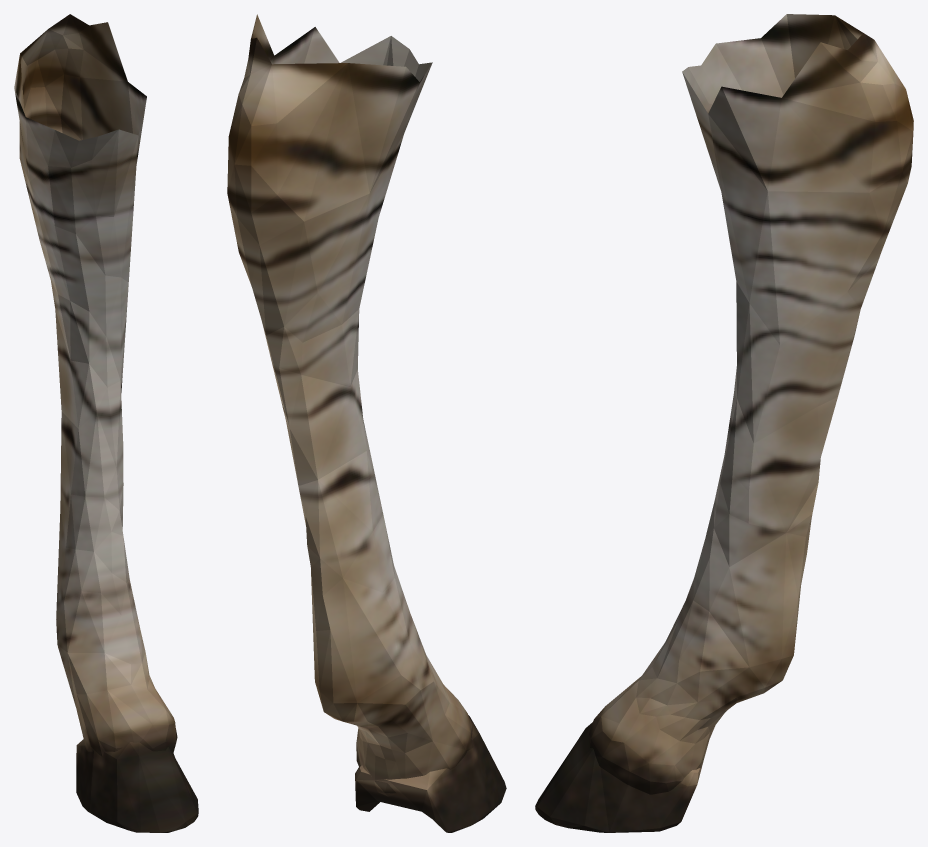
File: Zpztd.obj
The picture shows the model from 3 angles, left to right: view 1: azimuth 30°, elevation 25°; view 2: azimuth 150°, elevation 25°; view 3: azimuth 270°, elevation 25°; orthographic projection. The views are drawn at different scales.
Parts seen in each view (by area): view 1: PzTD; view 2: PzTD; view 3: PzTD.
Part boxes in pixels (<box>): PzTD: <box>14,14,198,832</box>; PzTD: <box>227,14,506,832</box>; PzTD: <box>535,14,913,832</box>.
Bounding box in the file's own units: 0.1172 × 0.6937 × 0.2976.
1 material, 1 textured.
